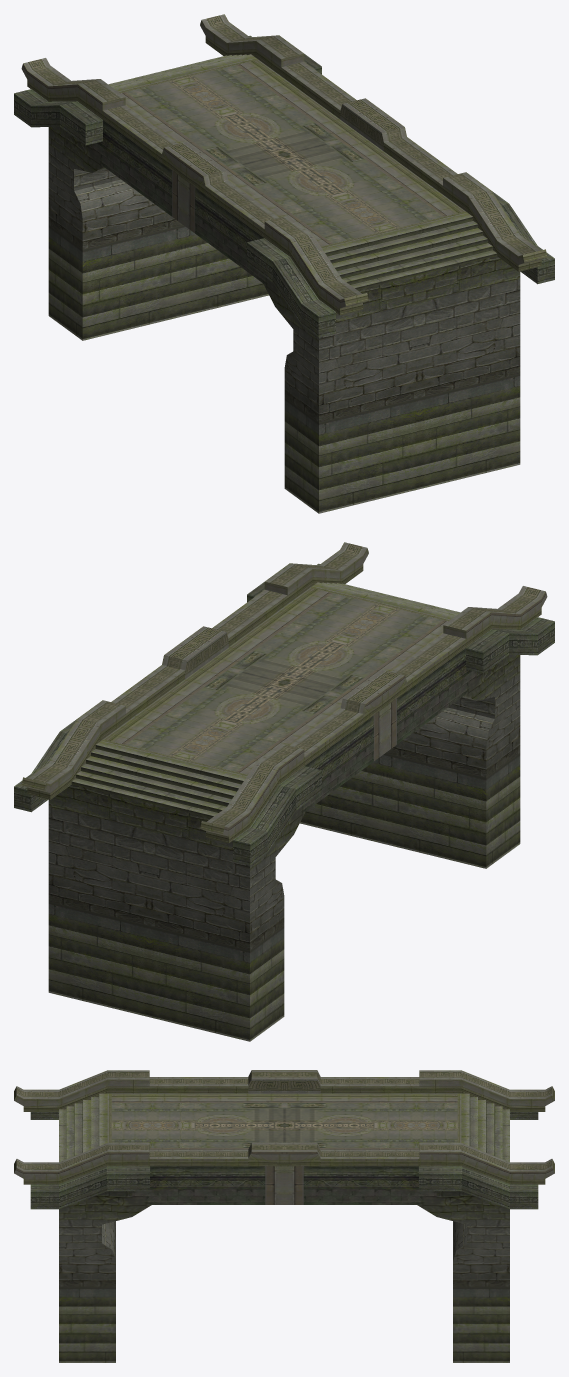
File: BattleField_V4_100503_shiqiao01.FBX
3 views of the same model, one above another, from view 1: azimuth 30°, elevation 25°; view 2: azimuth 150°, elevation 25°; view 3: azimuth 270°, elevation 25° (orthographic). The views are drawn at different scales.
Parts seen in each view (by area): view 1: Object014, Object015; view 2: Object014, Object015; view 3: Object014, Object015.
Boxes of the visible parts, box(x1,y1,x2,y2) form: Object014: box(14, 35, 554, 513); Object015: box(21, 14, 547, 315); Object014: box(14, 563, 554, 1041); Object015: box(21, 542, 547, 843); Object014: box(30, 1079, 538, 1362); Object015: box(14, 1070, 554, 1184).
Size of the model in its own units: 70.8 by 72.4 by 168.
Materials: 2 (2 with a texture image).
